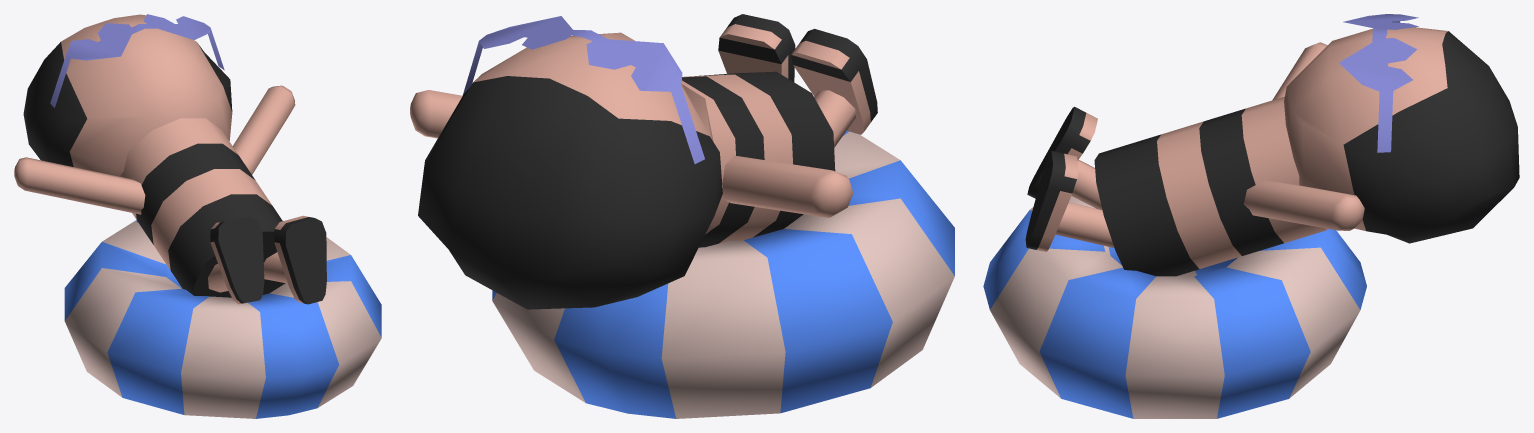
Rendered from character_3.fbx.
3 views of the same model, side by side, from view 1: azimuth 30°, elevation 25°; view 2: azimuth 150°, elevation 25°; view 3: azimuth 270°, elevation 25° (orthographic). The views are drawn at different scales.
Visible parts, largest first — view 1: ring.002, char_1.008, Cylinder.006, Cube.009, Cube.010, Cylinder.007, Cylinder.008, Cylinder.005; view 2: char_1.008, ring.002, Cylinder.006, Cube.010, Cube.009, Cylinder.007, Cylinder.005; view 3: char_1.008, ring.002, Cylinder.007, Cube.009, Cube.010, Cylinder.008, Cylinder.005, Cylinder.006.
Part boxes in pixels (bbox=[...]): ring.002: bbox=[64, 220, 381, 418]; char_1.008: bbox=[23, 14, 285, 297]; Cylinder.006: bbox=[14, 157, 145, 214]; Cube.009: bbox=[274, 215, 326, 304]; Cube.010: bbox=[210, 216, 264, 304]; Cylinder.007: bbox=[233, 85, 295, 174]; Cylinder.008: bbox=[263, 252, 287, 283]; Cylinder.005: bbox=[208, 264, 228, 292]; char_1.008: bbox=[418, 16, 835, 309]; ring.002: bbox=[492, 131, 954, 418]; Cylinder.006: bbox=[722, 155, 853, 217]; Cube.010: bbox=[791, 28, 877, 134]; Cube.009: bbox=[718, 14, 795, 81]; Cylinder.007: bbox=[410, 90, 462, 138]; Cylinder.005: bbox=[814, 90, 855, 147]; char_1.008: bbox=[1094, 14, 1519, 276]; ring.002: bbox=[983, 196, 1366, 418]; Cylinder.007: bbox=[1244, 181, 1364, 230]; Cube.009: bbox=[1025, 150, 1078, 251]; Cube.010: bbox=[1027, 106, 1097, 198]; Cylinder.008: bbox=[1055, 202, 1114, 247]; Cylinder.005: bbox=[1071, 160, 1102, 209]; Cylinder.006: bbox=[1272, 42, 1327, 100].
Bounding box in the file's own units: 0.2886 × 0.2677 × 0.3982.
